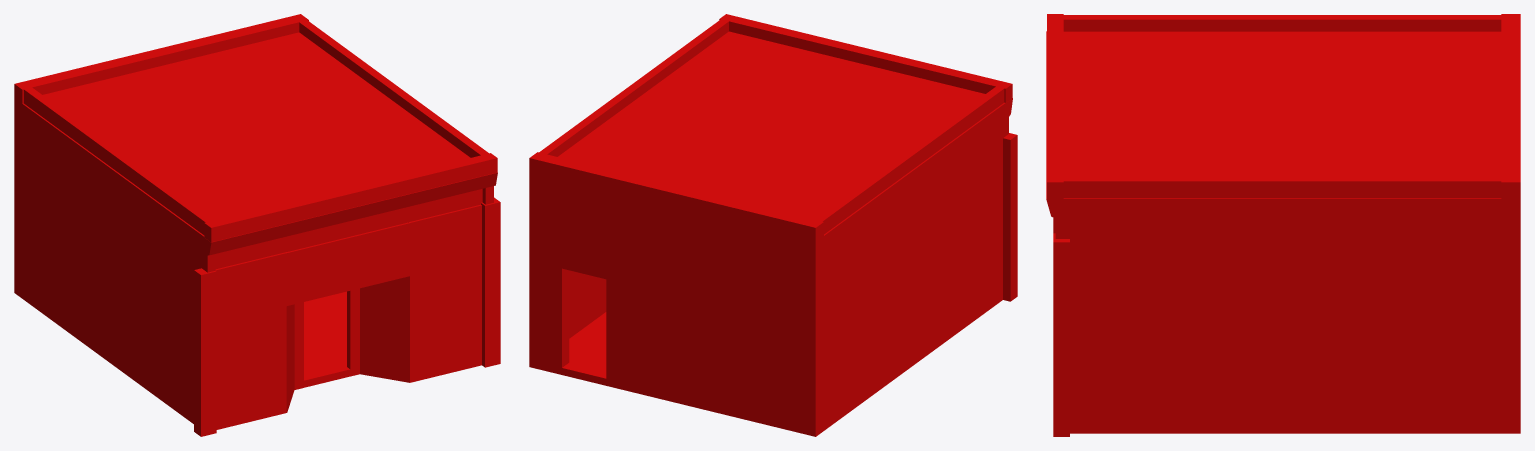
File: SM_Bld_Shop_Small_02_Collision.fbx
3 views of the same model, side by side, from view 1: azimuth 30°, elevation 25°; view 2: azimuth 150°, elevation 25°; view 3: azimuth 270°, elevation 25° (orthographic). The views are drawn at different scales.
Visible parts, largest first — view 1: SM_Bld_Shop_Small_02_Collision; view 2: SM_Bld_Shop_Small_02_Collision; view 3: SM_Bld_Shop_Small_02_Collision.
Part boxes in pixels (x1,y1,x2,y2): SM_Bld_Shop_Small_02_Collision: [14, 14, 500, 436]; SM_Bld_Shop_Small_02_Collision: [529, 14, 1017, 436]; SM_Bld_Shop_Small_02_Collision: [1046, 14, 1520, 436].
Bounding box in the file's own units: 739 × 493 × 843.
